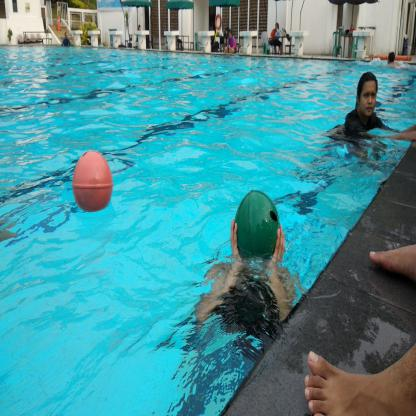green_buoy: (231, 186, 283, 271)
red_buoy: (69, 145, 116, 219)
